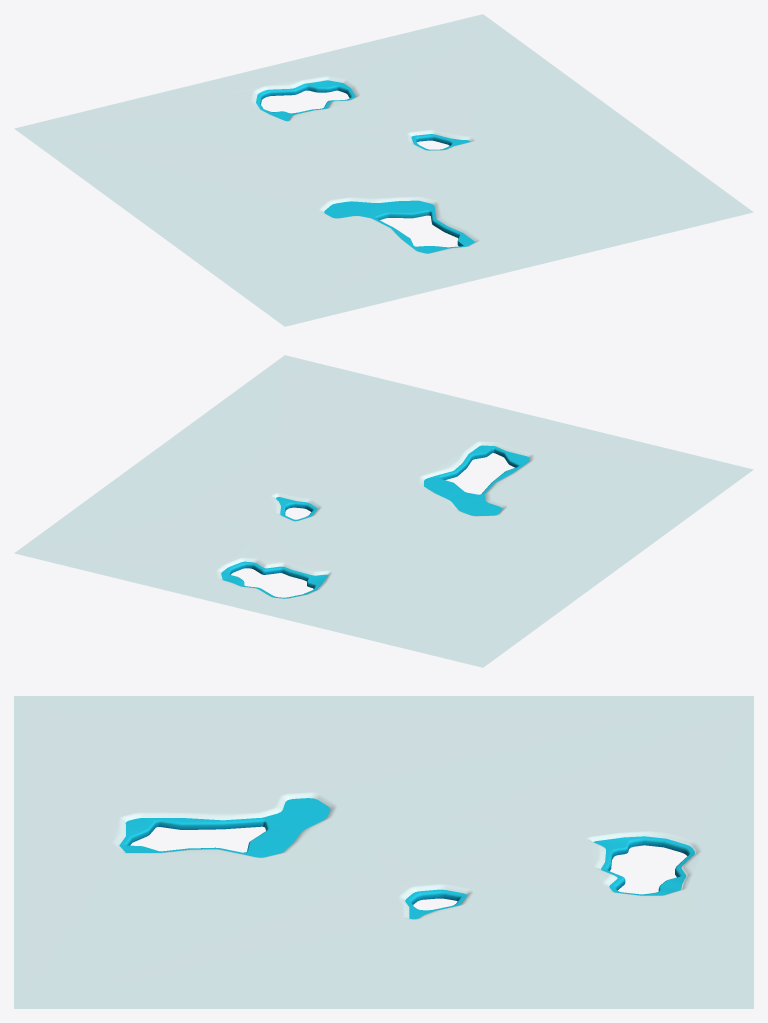
Rendered from landscape_001.fbx.
3 renders of one model, top to bottom at view 1: azimuth 30°, elevation 25°; view 2: azimuth 150°, elevation 25°; view 3: azimuth 270°, elevation 25°, orthographic. The views are drawn at different scales.
Visible parts, largest first — view 1: landscape_001; view 2: landscape_001; view 3: landscape_001.
Boxes of the visible parts, left/top/right/bottom form: landscape_001: left=14, top=14, right=753, bottom=326; landscape_001: left=14, top=355, right=753, bottom=667; landscape_001: left=14, top=696, right=753, bottom=1008.
Bounding box in the file's own units: 6000 × 6000 × 80.67.
